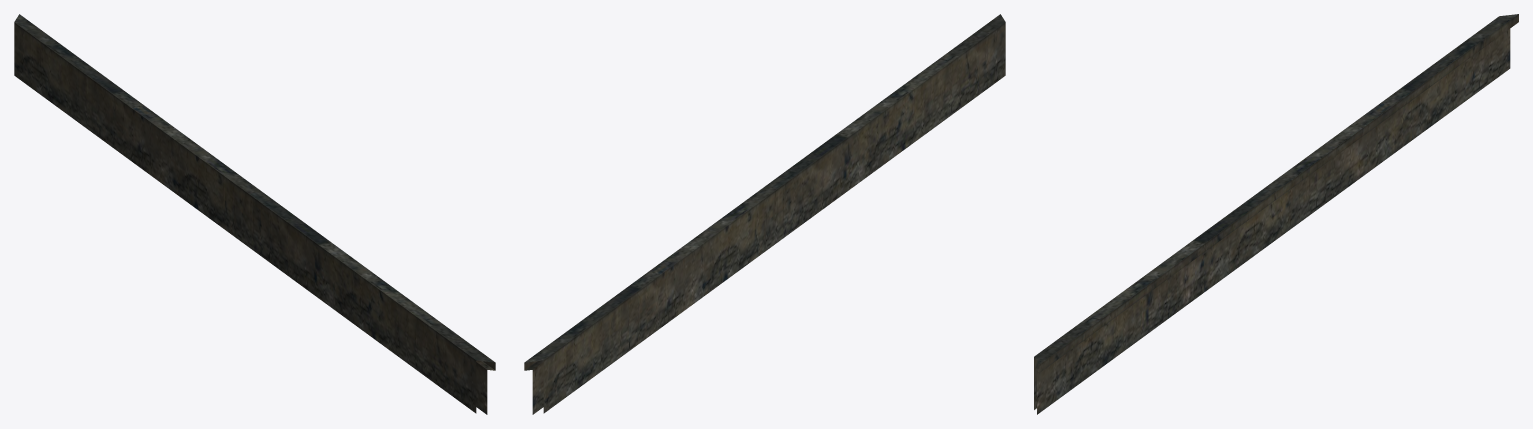
File: Roof_SideWall_02.FBX
3 views of the same model, side by side, from view 1: azimuth 30°, elevation 25°; view 2: azimuth 150°, elevation 25°; view 3: azimuth 330°, elevation 25° (orthographic).
Parts seen in each view (by area): view 1: Roof_SideWall_02; view 2: Roof_SideWall_02; view 3: Roof_SideWall_02.
Part boxes in pixels (x1,y1,x2,y2): Roof_SideWall_02: [14, 14, 495, 414]; Roof_SideWall_02: [524, 14, 1005, 414]; Roof_SideWall_02: [1034, 14, 1518, 414].
Size of the model in its own units: 22.66 by 92.93 by 1507.
